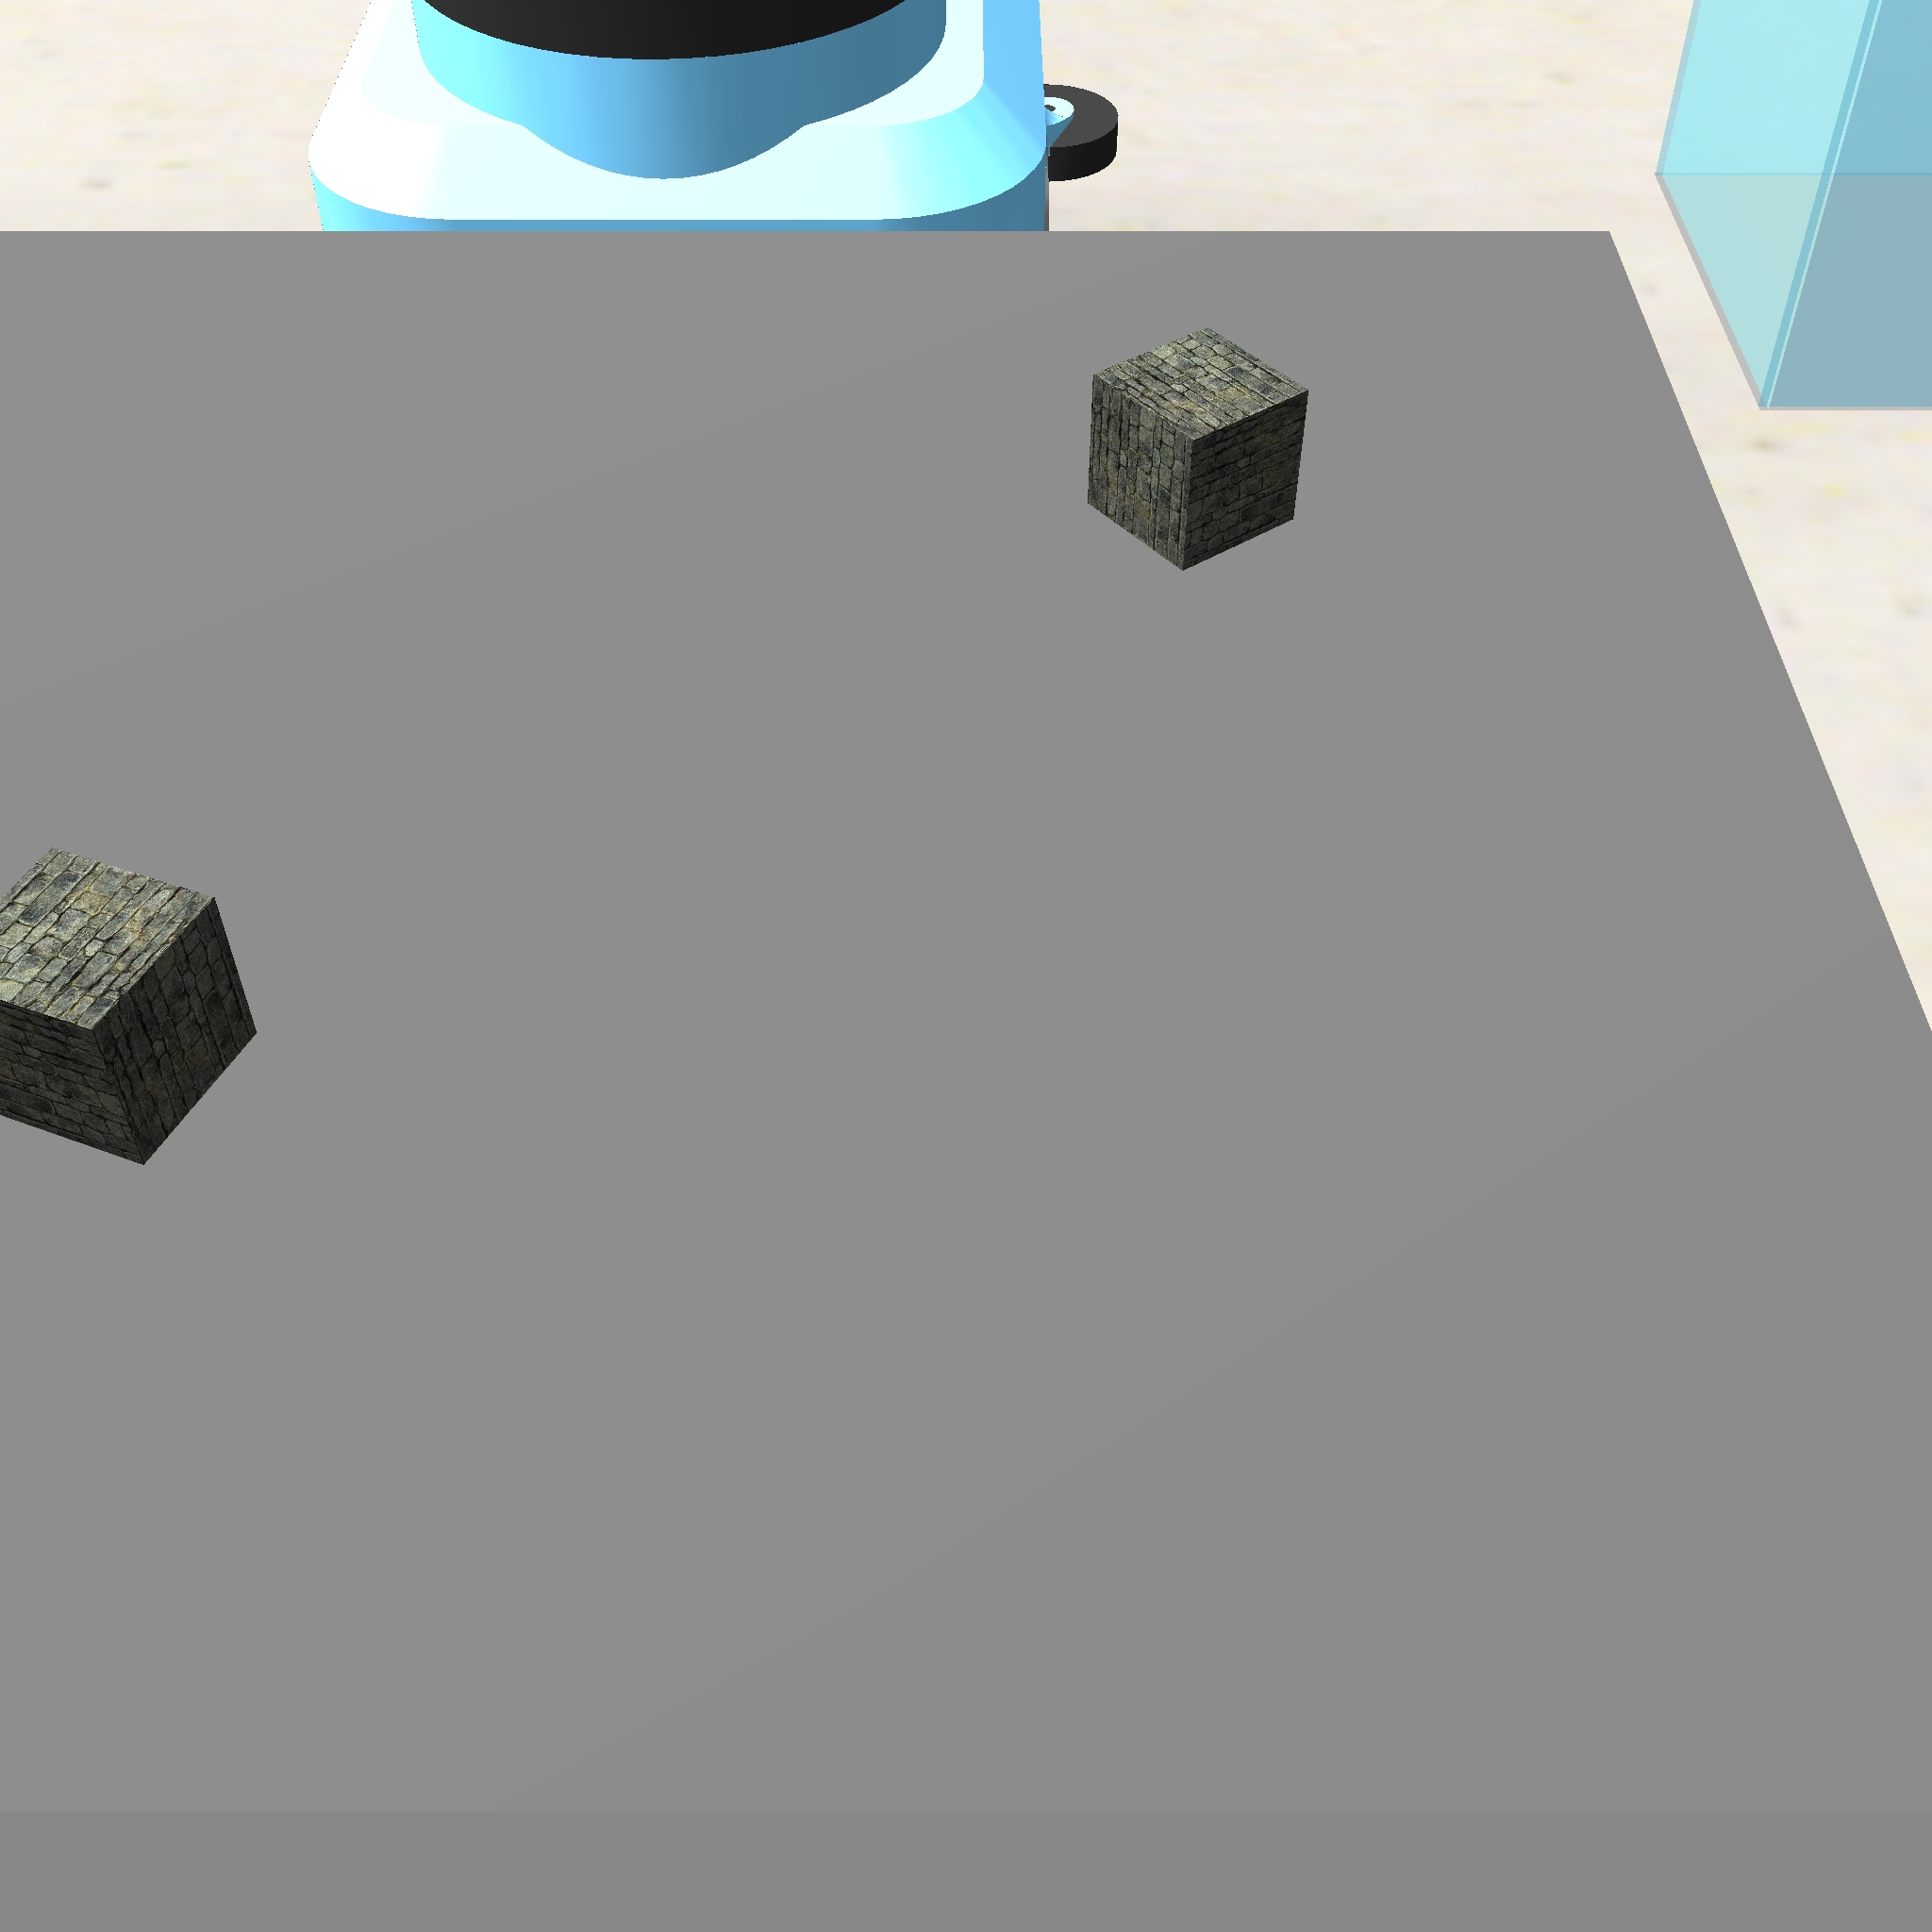cube: (2, 842, 274, 1177), (1076, 320, 1322, 580)
